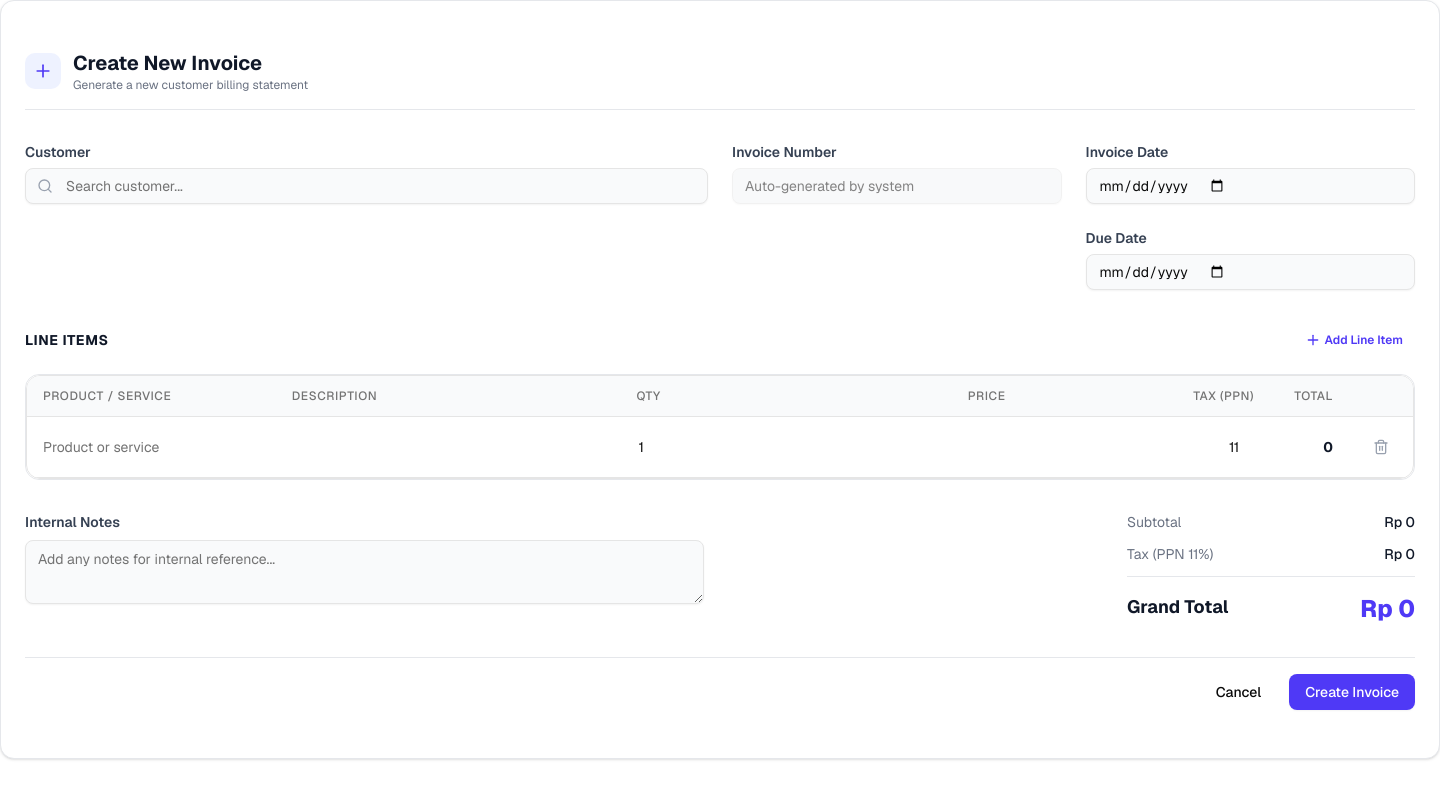
Scenario: invoicing-ar integration errors › shows 409 error message on create invoice page
Click the button "Create Invoice": (1352, 692) [1289,674,1415,710]
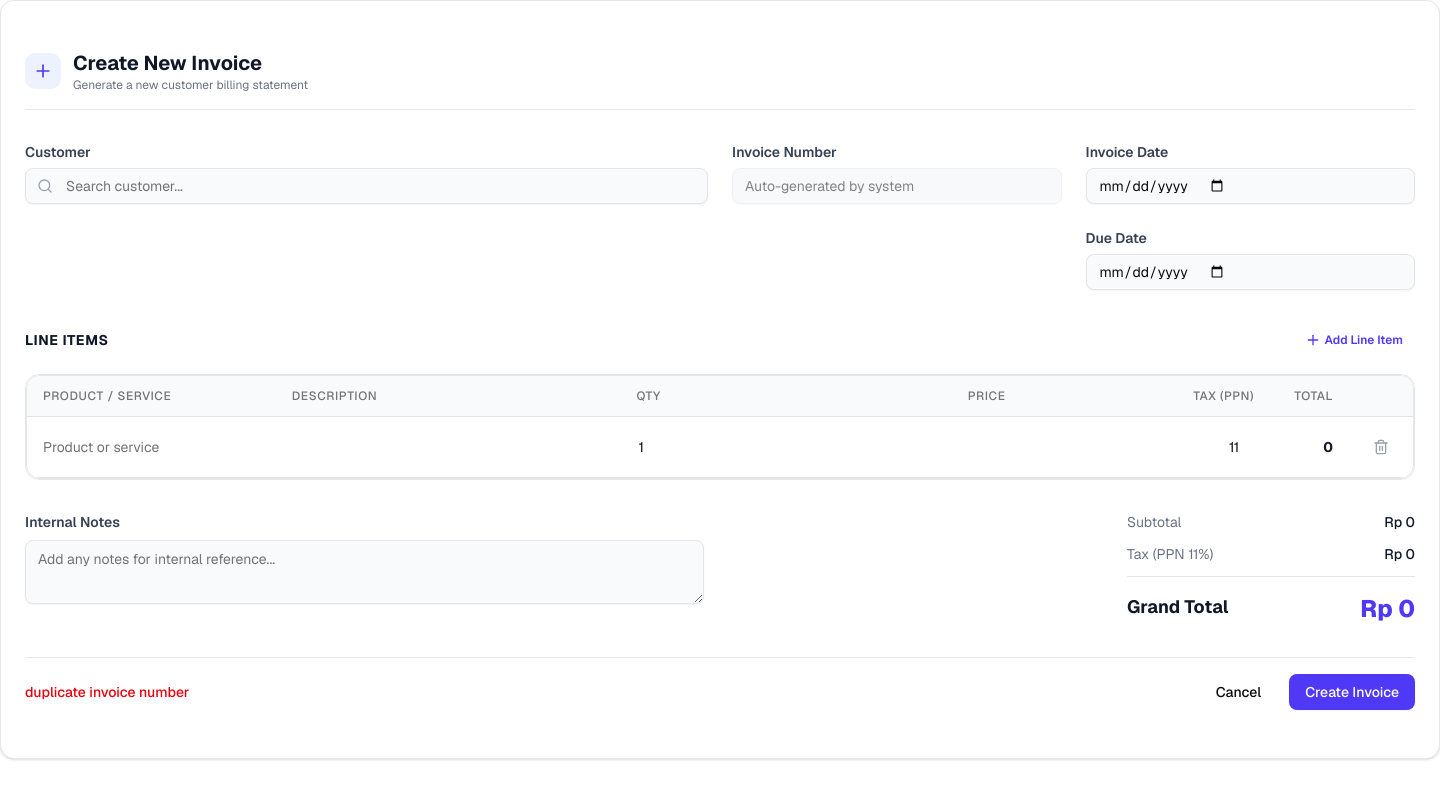
Expected: the text "duplicate invoice number" is shown, [25,682,189,702]
